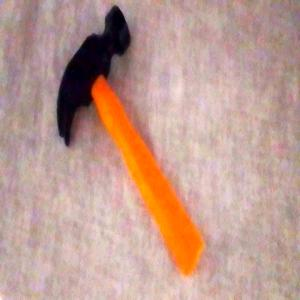martelo: (54, 3, 206, 280)
